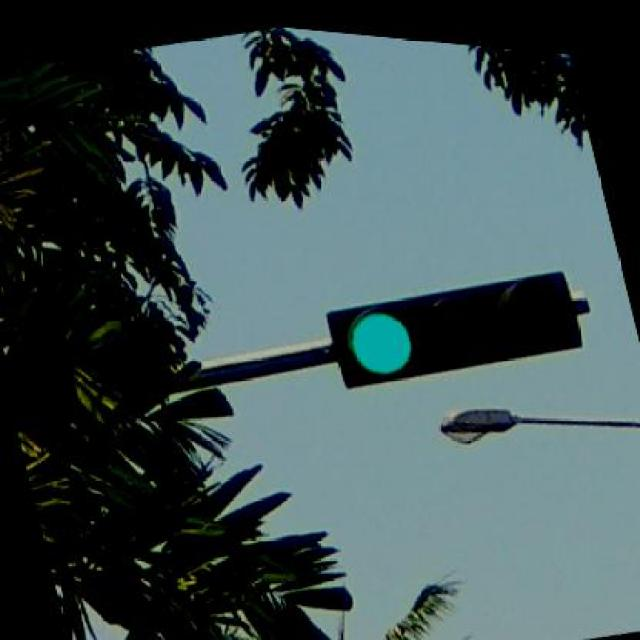green_light: (328, 242, 586, 400)
